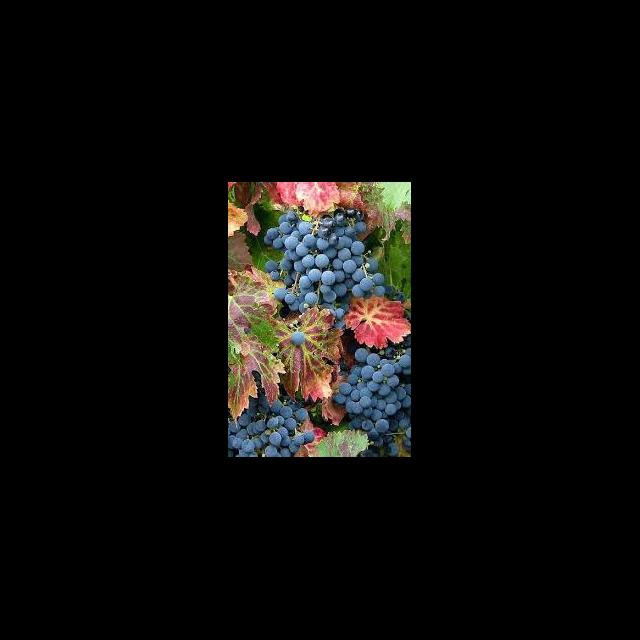grape: (279, 207, 373, 310), (334, 338, 411, 456), (228, 371, 314, 456)
